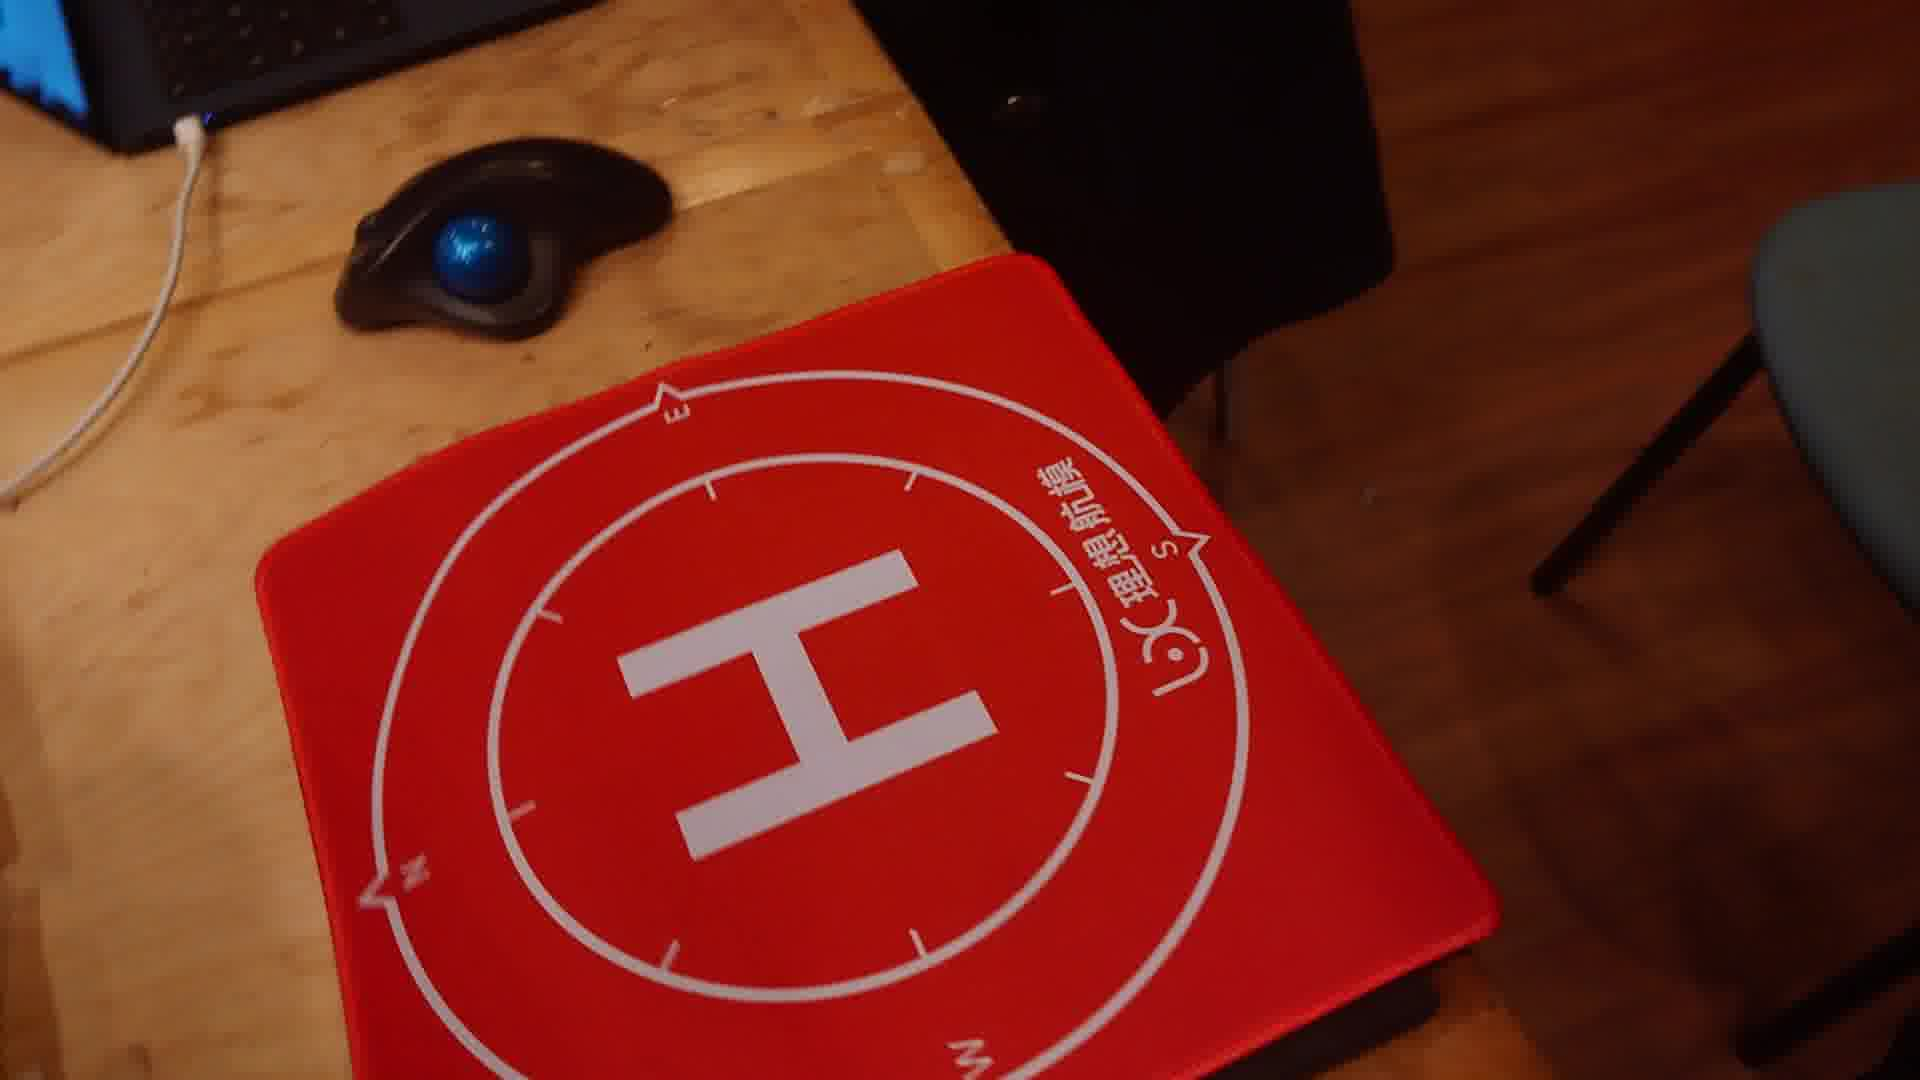H: (615, 545, 1000, 862)
